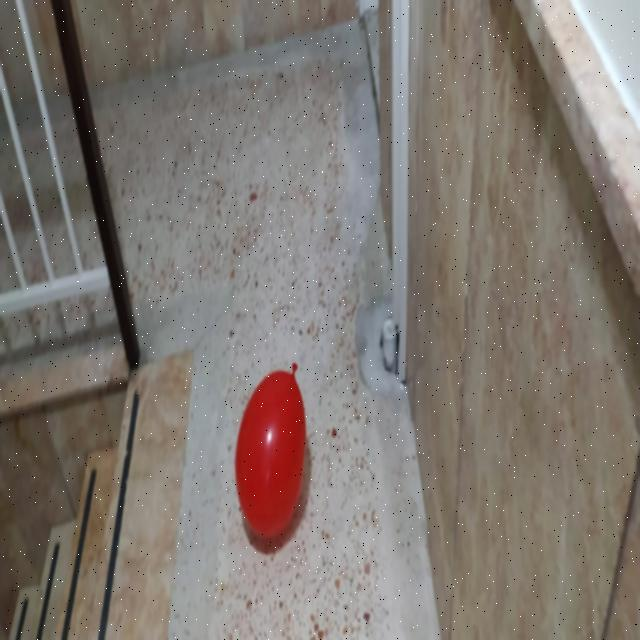red: (233, 361, 307, 539)
